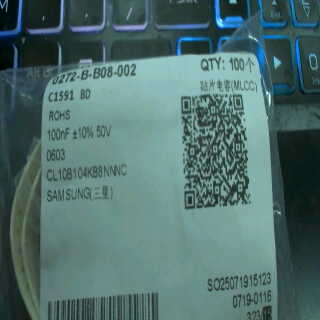100nF: (43, 125, 73, 142)
